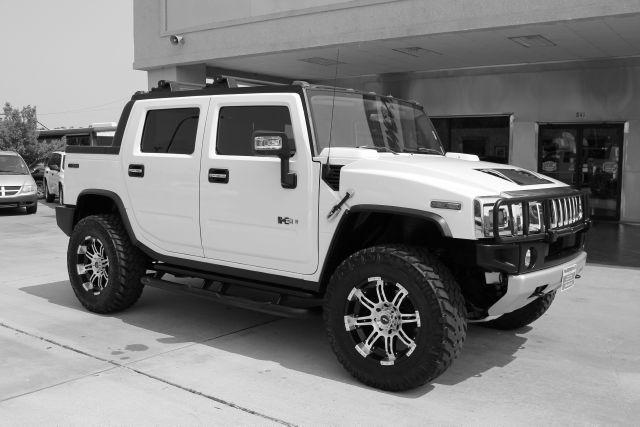car: (54, 74, 588, 394)
